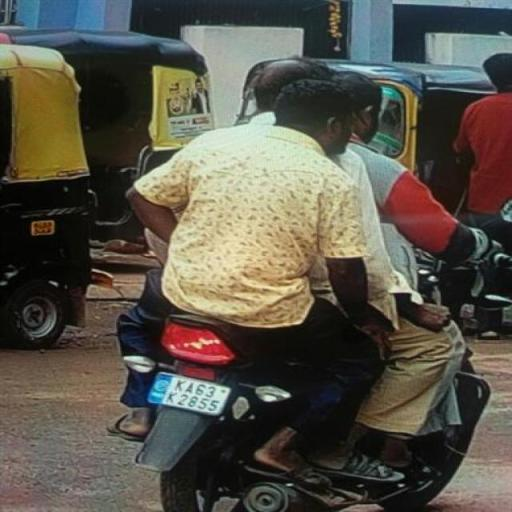tripple riding: (112, 52, 496, 329)
